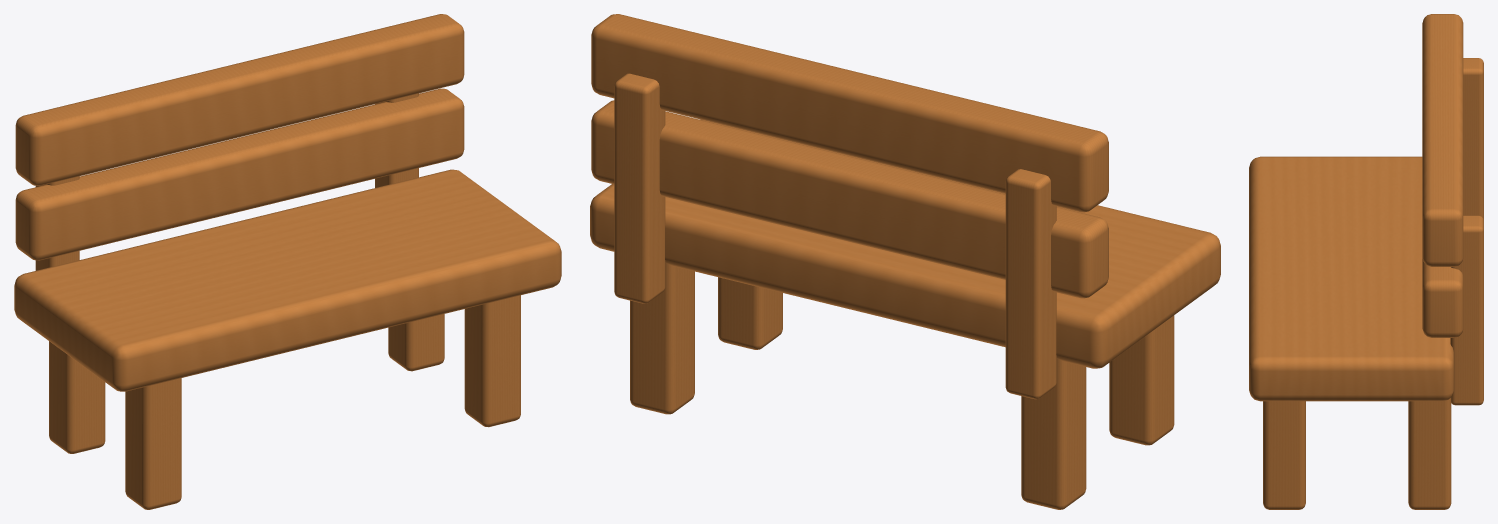
The model's file is honey_garden_bench.glb.
3 renders of one model, left to right at view 1: azimuth 30°, elevation 25°; view 2: azimuth 150°, elevation 25°; view 3: azimuth 270°, elevation 25°, orthographic. The views are drawn at different scales.
Parts seen in each view (by area): view 1: seat, backrest_board.001, backrest_board, bench_leg, bench_leg.002, bench_leg.001, bench_leg.003; view 2: backrest_board.001, seat, backrest_board, back_support, back_support.001, bench_leg.001, bench_leg.003, bench_leg, bench_leg.002; view 3: seat, backrest_board.001, bench_leg.003, back_support.001, bench_leg.002, back_support, backrest_board.
Part boxes in pixels (box(x1,y1,x2,y2)): seat: box(14, 169, 561, 391); backrest_board.001: box(15, 14, 464, 185); backrest_board: box(15, 88, 464, 260); bench_leg: box(125, 378, 181, 509); bench_leg.002: box(464, 295, 520, 427); bench_leg.001: box(49, 341, 105, 453); bench_leg.003: box(388, 314, 444, 371); backrest_board.001: box(591, 14, 1108, 212); seat: box(590, 119, 1220, 368); backrest_board: box(591, 100, 1108, 298); back_support: box(1005, 169, 1056, 399); back_support.001: box(614, 73, 665, 303); bench_leg.001: box(1021, 358, 1086, 509); bench_leg.003: box(630, 263, 694, 414); bench_leg: box(1109, 315, 1174, 445); bench_leg.002: box(718, 277, 782, 349); seat: box(1249, 156, 1453, 401); backrest_board.001: box(1422, 14, 1463, 266); bench_leg.003: box(1408, 397, 1451, 509); back_support.001: box(1450, 215, 1483, 405); bench_leg.002: box(1263, 401, 1305, 509); back_support: box(1463, 58, 1483, 219); backrest_board: box(1422, 258, 1463, 337).
Size of the model in its own units: 1.21 by 0.85 by 0.5789.
1 material, 1 textured.
